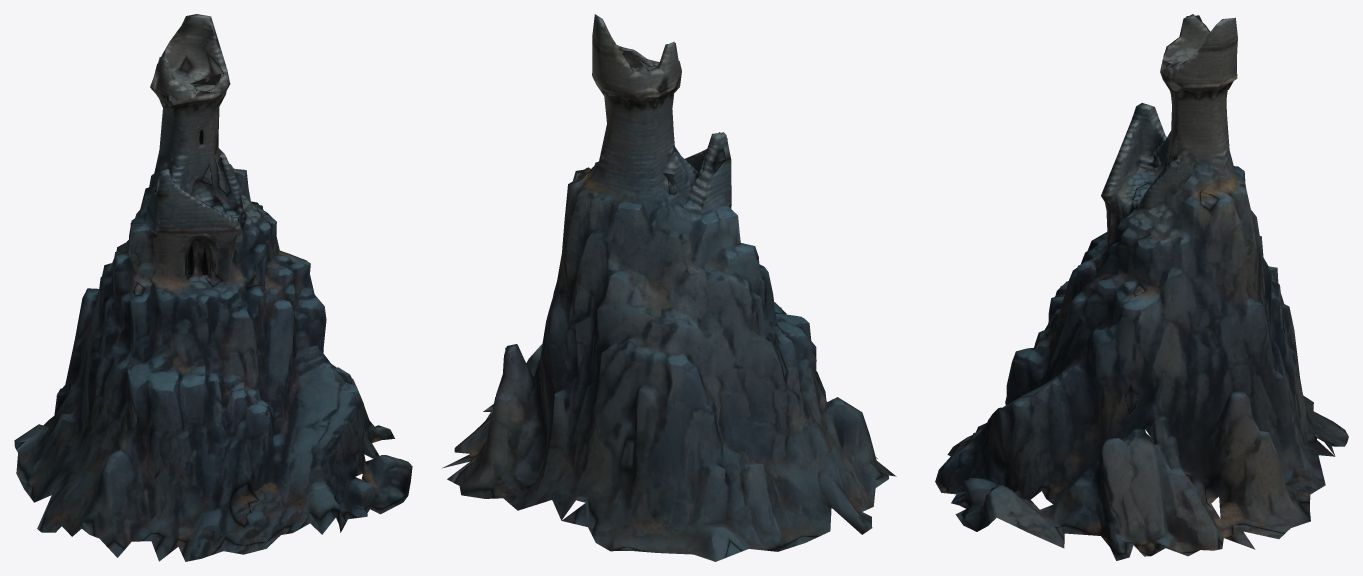
Rendered from haunted-mountain-1.glb.
3 views of the same model, side by side, from view 1: azimuth 30°, elevation 25°; view 2: azimuth 150°, elevation 25°; view 3: azimuth 270°, elevation 25° (orthographic). The views are drawn at different scales.
Parts seen in each view (by area): view 1: geometry_0; view 2: geometry_0; view 3: geometry_0.
Boxes of the visible parts, x1,y1,x2,y2 form: geometry_0: [14, 14, 412, 561]; geometry_0: [442, 14, 896, 561]; geometry_0: [935, 14, 1348, 560].
Bounding box in the file's own units: 0.8201 × 0.9883 × 0.7887.
Materials: 1 (1 with a texture image).
